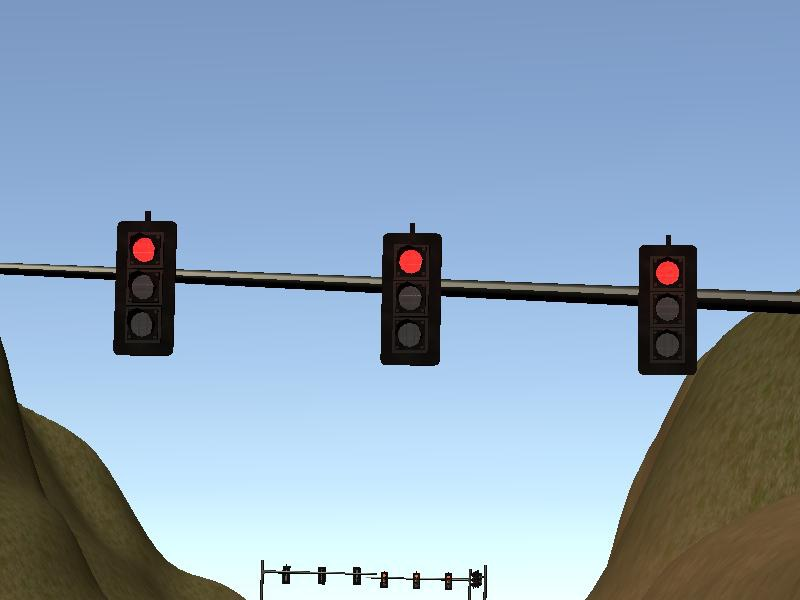red_light: (116, 220, 174, 360), (383, 232, 438, 363), (640, 246, 694, 373)
